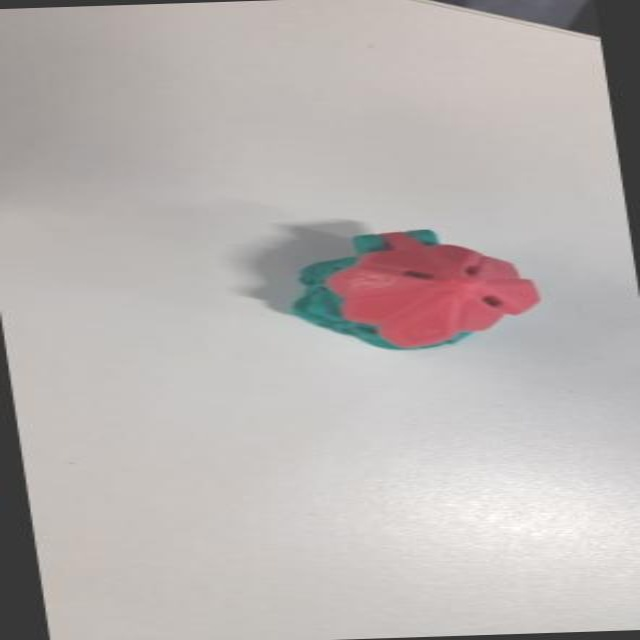House: (264, 228, 550, 363)
